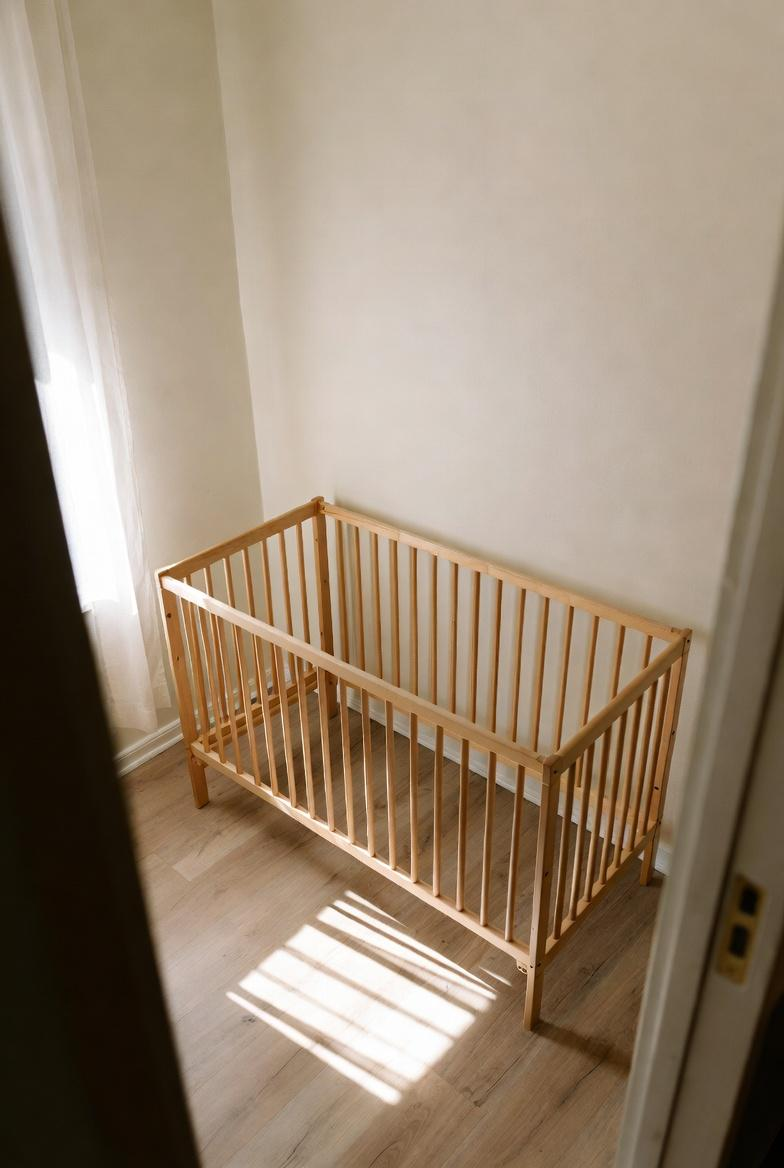crib: (158, 499, 691, 1028)
